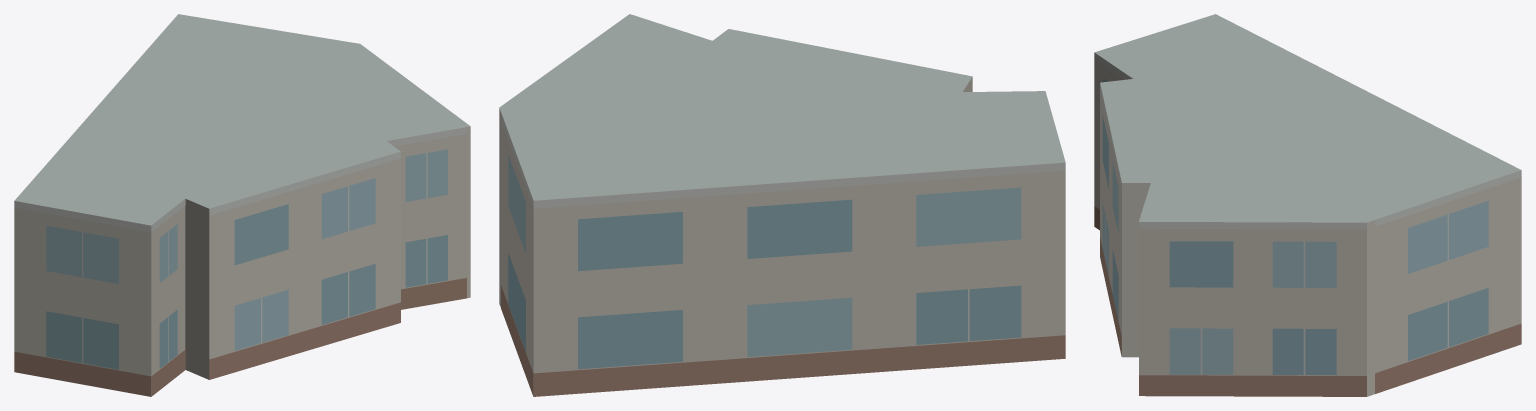
File: survey-upis-32815223.glb
The picture shows the model from 3 angles, left to right: view 1: azimuth 30°, elevation 25°; view 2: azimuth 150°, elevation 25°; view 3: azimuth 270°, elevation 25°; orthographic projection. The views are drawn at different scales.
Parts seen in each view (by area): view 1: survey-upis-32815223.tmp; view 2: survey-upis-32815223.tmp; view 3: survey-upis-32815223.tmp.
Part boxes in pixels (left/top/right/bottom): survey-upis-32815223.tmp: left=14, top=14, right=470, bottom=396; survey-upis-32815223.tmp: left=499, top=14, right=1065, bottom=396; survey-upis-32815223.tmp: left=1094, top=14, right=1521, bottom=396.
Bounding box in the file's own units: 15.68 × 6.1 × 13.57.
